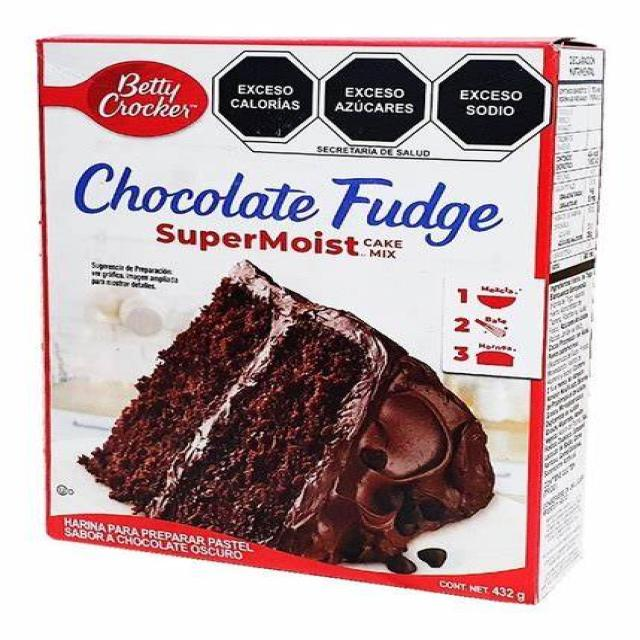Caja: (23, 19, 577, 606)
